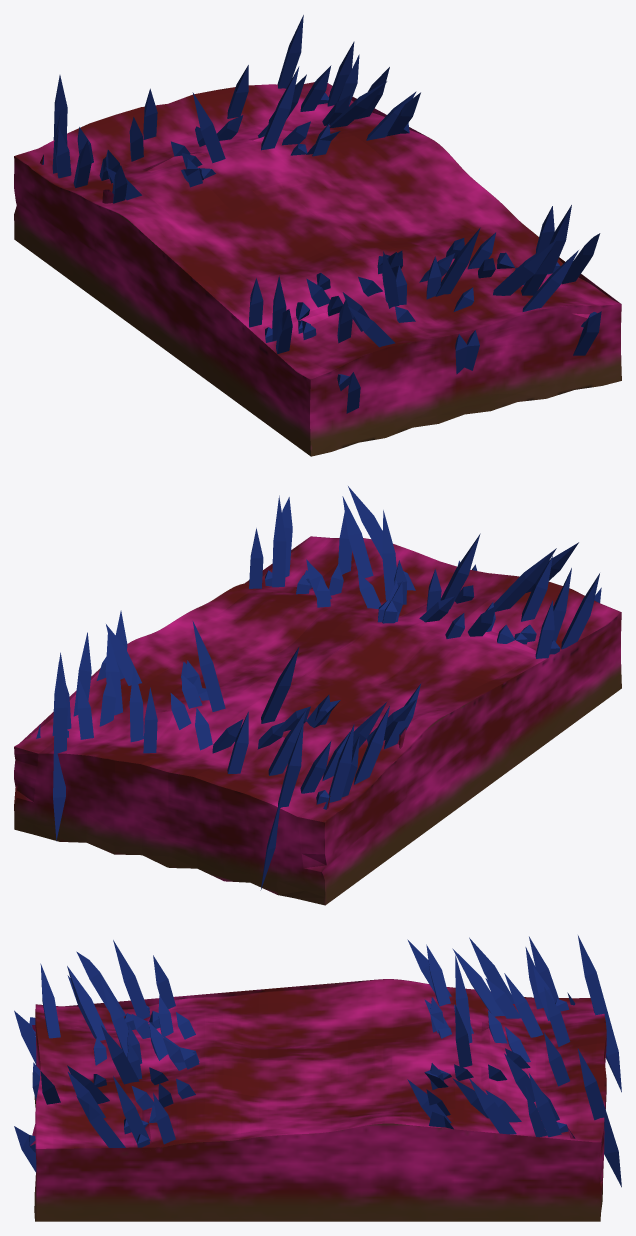
File: lower_general.fbx
The picture shows the model from 3 angles, top to bottom: view 1: azimuth 30°, elevation 25°; view 2: azimuth 150°, elevation 25°; view 3: azimuth 270°, elevation 25°; orthographic projection. The views are drawn at different scales.
Parts seen in each view (by area): view 1: low_middle.001; view 2: low_middle.001; view 3: low_middle.001.
Part boxes in pixels (x1=…): low_middle.001: x1=14, y1=15, x2=621, y2=456; low_middle.001: x1=14, y1=486, x2=621, y2=905; low_middle.001: x1=14, y1=935, x2=621, y2=1221.
Bounding box in the file's own units: 364 × 200 × 646.
